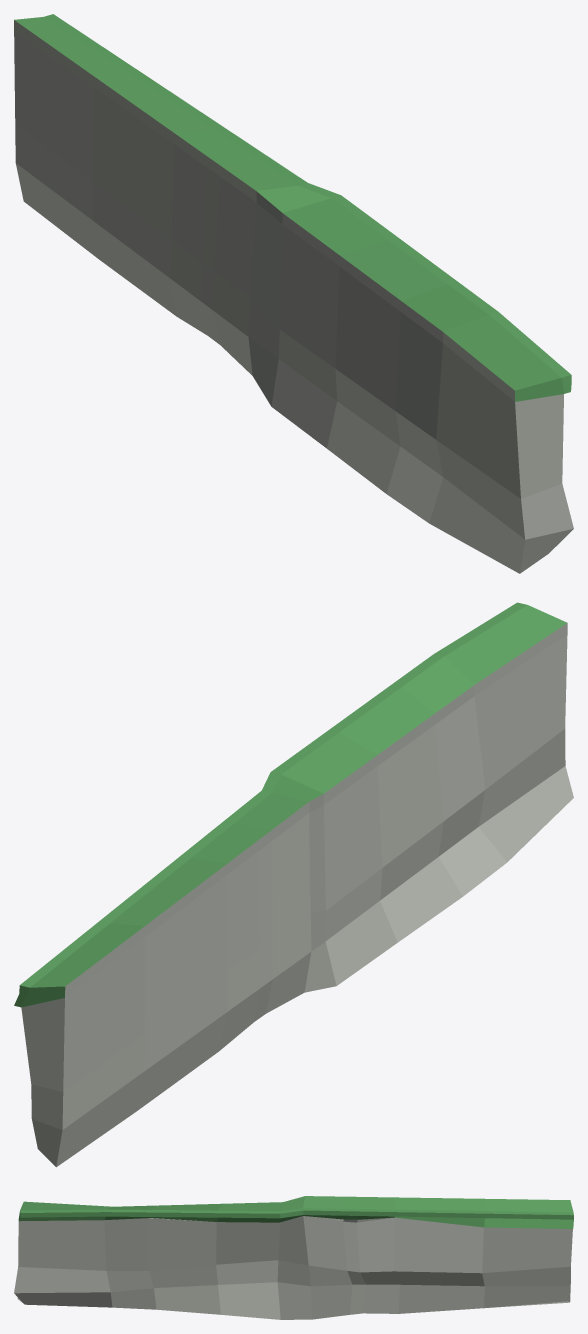
Rendered from Cliff.glb.
3 renders of one model, top to bottom at view 1: azimuth 30°, elevation 25°; view 2: azimuth 150°, elevation 25°; view 3: azimuth 270°, elevation 25°, orthographic. The views are drawn at different scales.
Parts seen in each view (by area): view 1: Cube; view 2: Cube; view 3: Cube.
Part boxes in pixels (bbox=[...]): Cube: bbox=[14, 14, 573, 573]; Cube: bbox=[14, 602, 573, 1167]; Cube: bbox=[14, 1196, 573, 1319].
Bounding box in the file's own units: 3.99 × 10.54 × 47.59.
